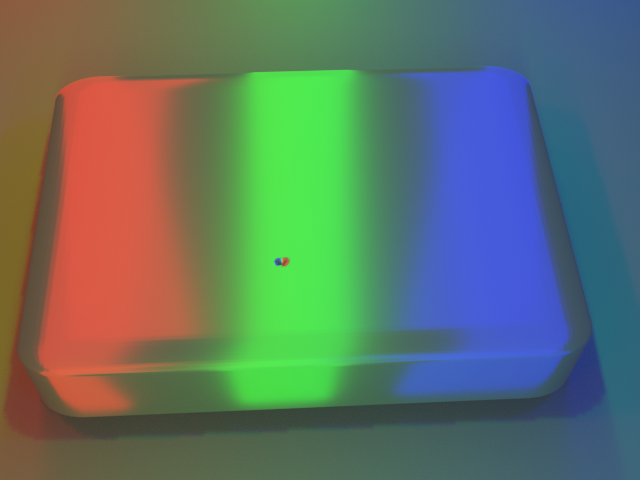dent: (261, 246, 296, 282)
